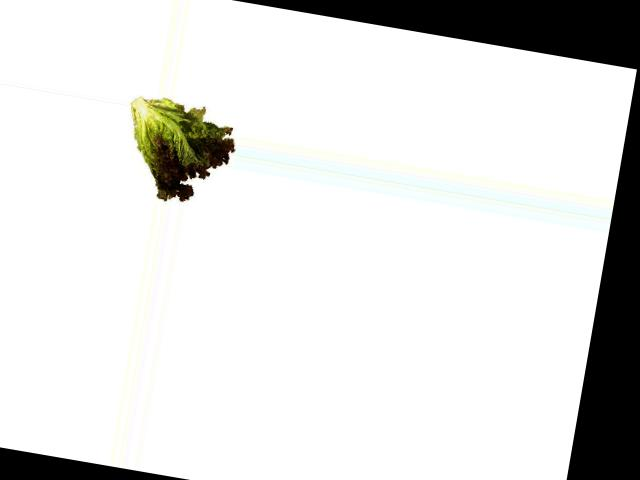lettuce: (117, 94, 241, 209)
